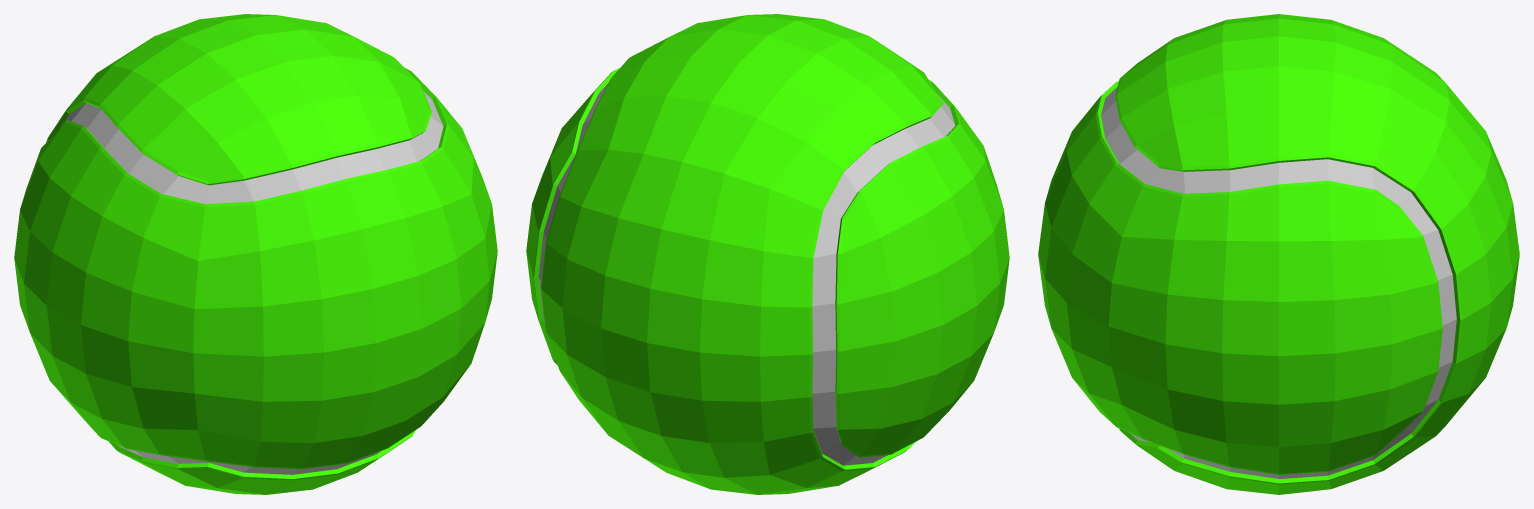
File: tennis ball.obj
The picture shows the model from 3 angles, left to right: view 1: azimuth 30°, elevation 25°; view 2: azimuth 150°, elevation 25°; view 3: azimuth 270°, elevation 25°; orthographic projection.
Parts seen in each view (by area): view 1: Tennis_Ball, Lines; view 2: Tennis_Ball, Lines; view 3: Tennis_Ball, Lines.
Boxes of the visible parts, <box> form: Tennis_Ball: <box>14,14,497,494</box>; Lines: <box>60,91,443,474</box>; Tennis_Ball: <box>526,14,1009,494</box>; Lines: <box>538,83,955,465</box>; Tennis_Ball: <box>1038,14,1519,494</box>; Lines: <box>1101,87,1456,478</box>.
Size of the model in its own units: 2 by 2 by 2.
